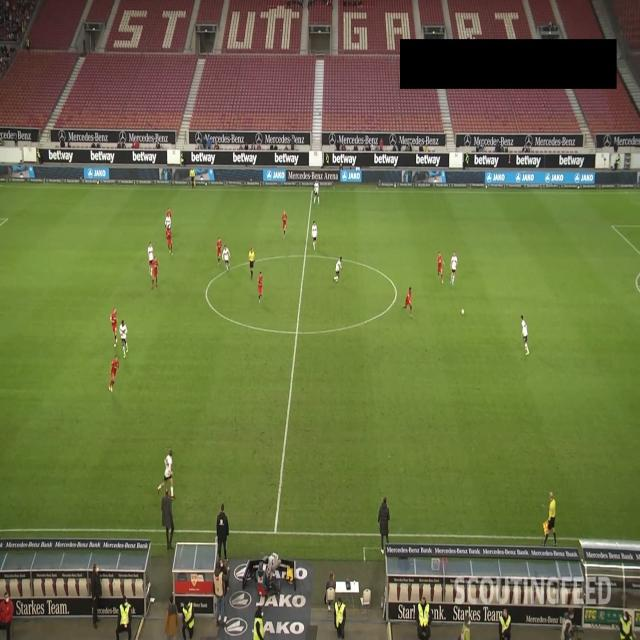ball: (460, 307, 465, 316)
